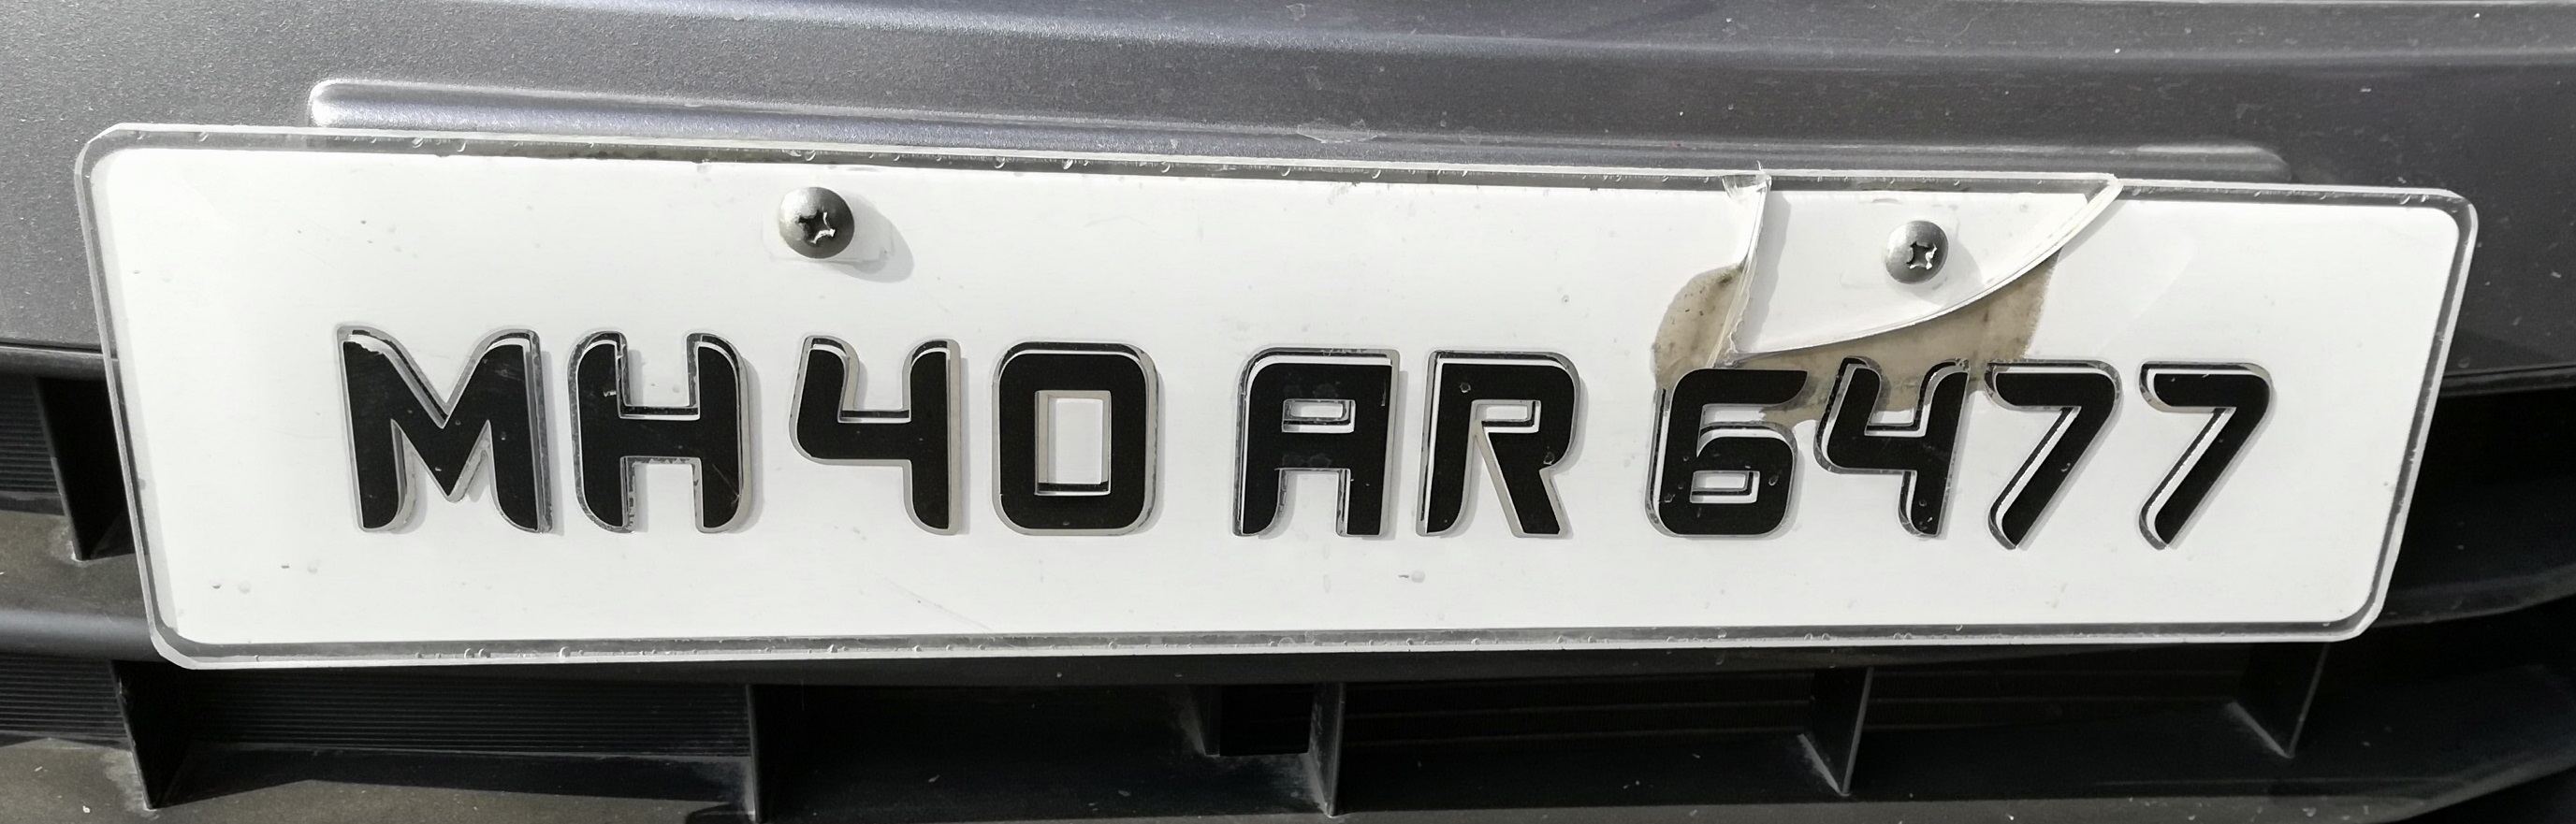numberplate: (71, 121, 2475, 674)
